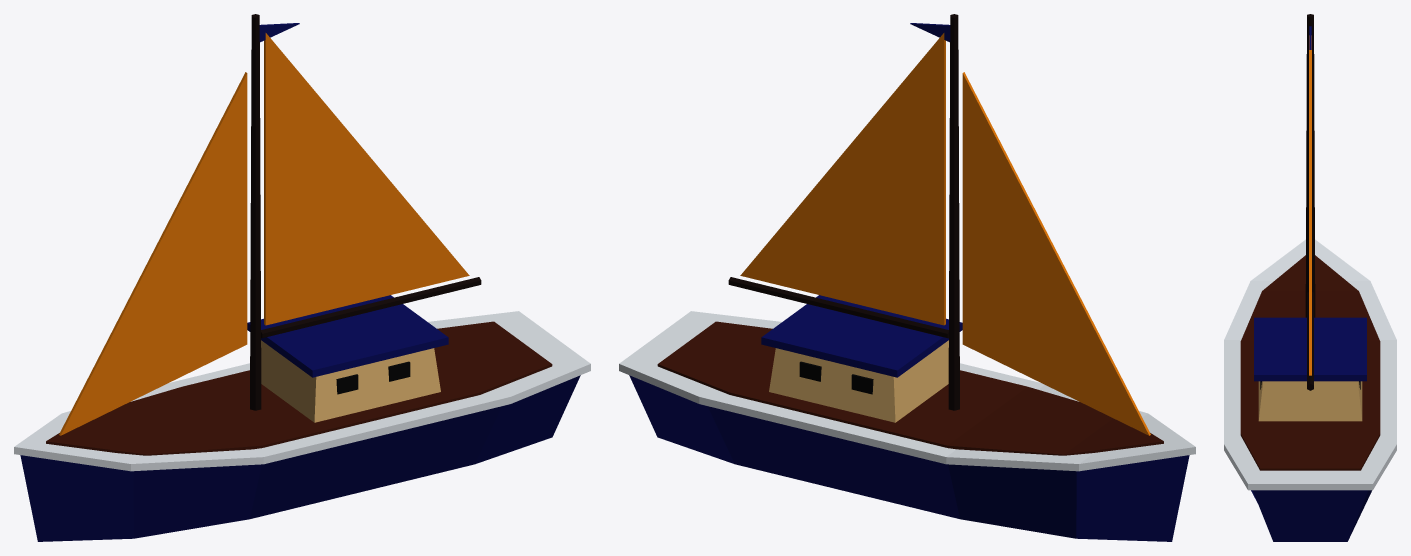
The model's file is boat.glb.
3 views of the same model, side by side, from view 1: azimuth 30°, elevation 25°; view 2: azimuth 150°, elevation 25°; view 3: azimuth 270°, elevation 25° (orthographic). The views are drawn at different scales.
Visible parts, largest first — view 1: SM_Boat_blue; view 2: SM_Boat_blue; view 3: SM_Boat_blue.
Boxes of the visible parts, left/top/right/bottom form: SM_Boat_blue: left=14, top=14, right=590, bottom=541; SM_Boat_blue: left=619, top=14, right=1195, bottom=541; SM_Boat_blue: left=1224, top=14, right=1396, bottom=541.
Size of the model in its own units: 4.69 by 3.92 by 1.5.
Materials: 2 (2 with a texture image).
